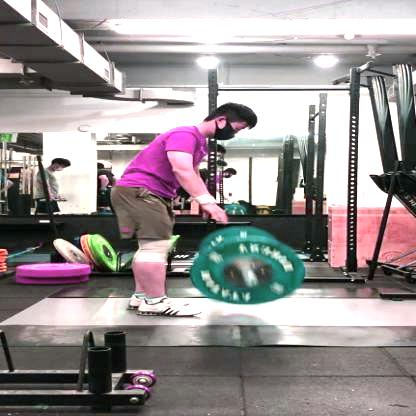Barbell: (238, 277, 261, 291)
